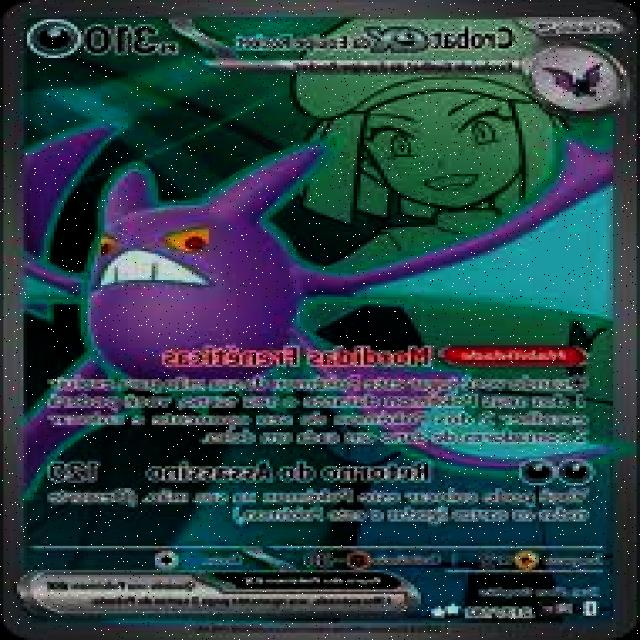crobat: (0, 124, 622, 512)
